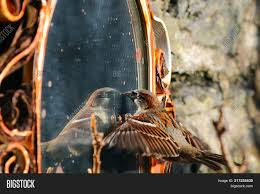hsparrow: (100, 87, 227, 171)
